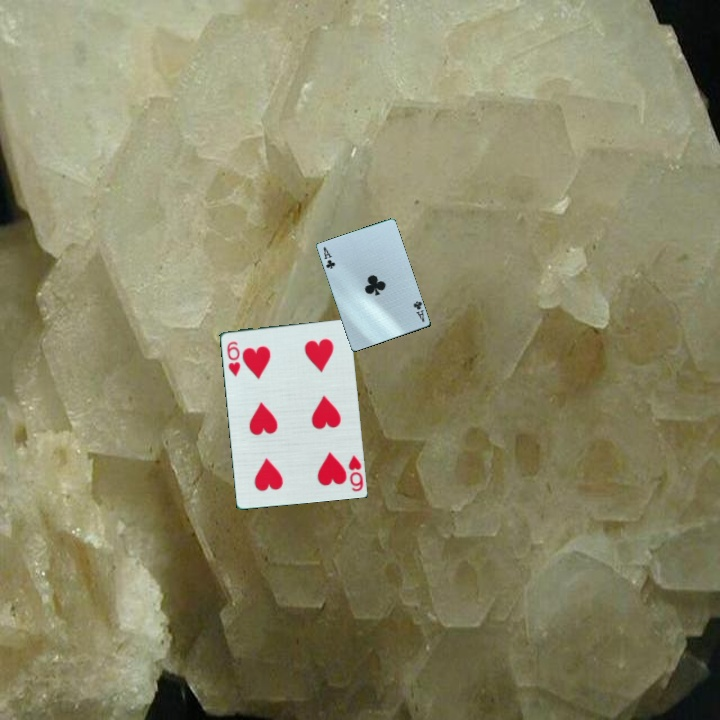6h: (345, 452, 366, 494), (223, 338, 243, 379)
Ac: (320, 243, 337, 272), (410, 297, 427, 325)
